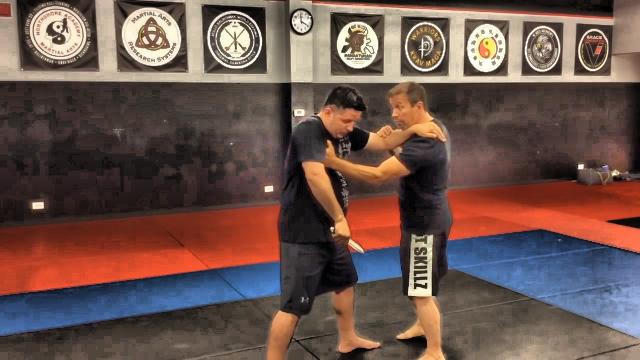knife: (328, 224, 366, 255)
